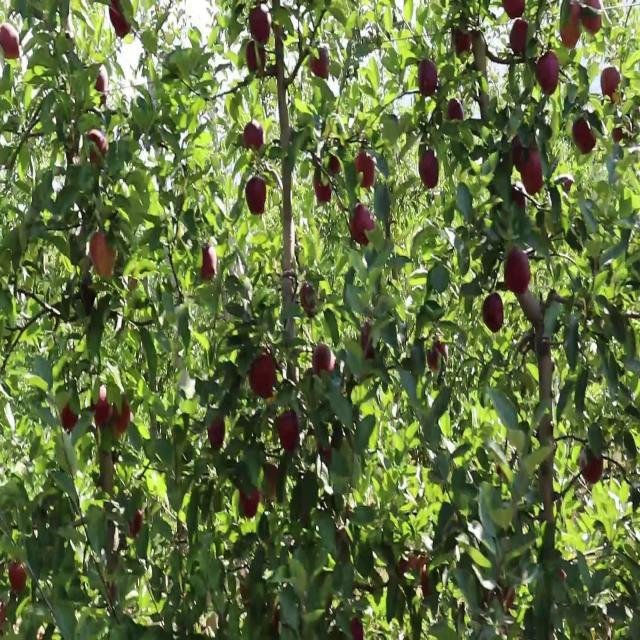apple: (398, 553, 431, 594), (398, 553, 430, 594), (90, 231, 116, 279), (504, 247, 531, 293), (249, 353, 276, 398), (520, 147, 542, 196), (350, 204, 375, 246), (536, 51, 559, 96), (560, 0, 581, 49), (409, 553, 431, 598), (276, 411, 299, 453), (579, 447, 604, 484), (482, 293, 504, 333), (572, 118, 596, 153), (109, 0, 131, 38), (312, 160, 331, 204), (419, 149, 439, 189), (111, 398, 131, 438), (245, 176, 266, 214), (88, 129, 109, 167), (249, 7, 270, 44), (355, 151, 375, 188), (94, 384, 111, 427), (0, 22, 20, 58), (418, 60, 438, 96), (426, 340, 449, 371), (312, 344, 335, 374), (315, 424, 331, 467), (510, 18, 528, 56), (308, 47, 330, 78), (581, 0, 601, 34), (246, 40, 266, 73), (239, 487, 260, 518), (200, 244, 218, 280), (600, 67, 621, 97), (360, 320, 375, 360), (244, 120, 264, 149), (300, 282, 316, 318), (9, 560, 26, 593), (95, 64, 109, 103), (208, 418, 225, 449), (511, 136, 526, 171), (314, 176, 331, 204), (61, 404, 78, 431), (454, 29, 472, 54), (264, 462, 279, 491), (95, 64, 109, 94), (502, 0, 525, 18), (129, 509, 142, 538), (498, 587, 515, 609), (448, 98, 464, 120), (511, 187, 526, 209), (501, 587, 515, 610), (351, 618, 364, 640), (611, 127, 624, 144), (329, 156, 341, 174), (329, 156, 341, 174)
